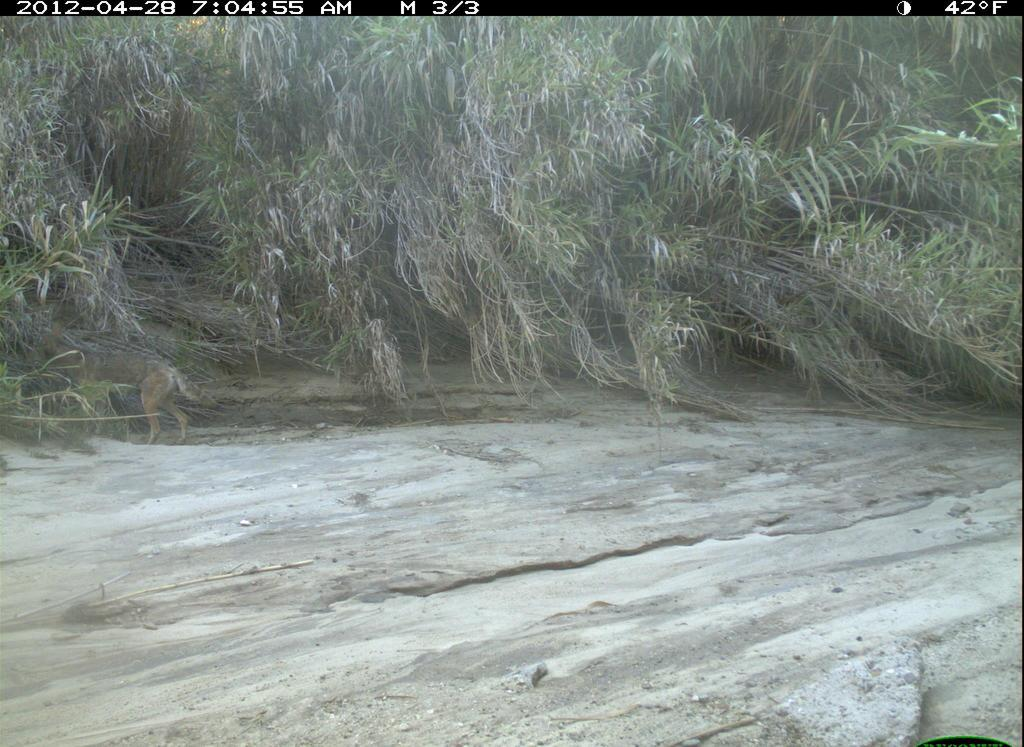coyote: (25, 305, 212, 461)
